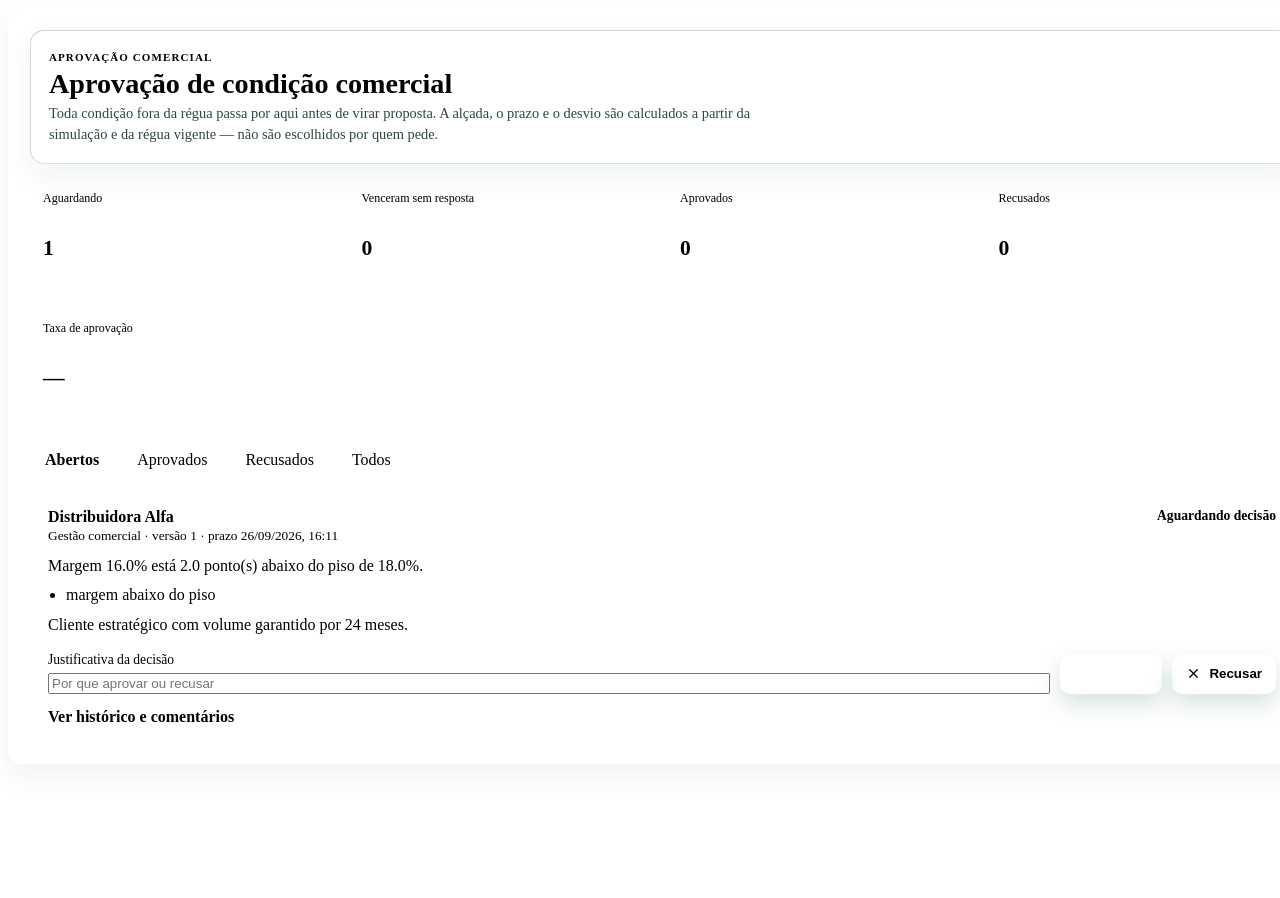
Test: fila de aprovação comercial › o histórico abre com os eventos em ordem
Step 1. Click the button "Ver histórico e comentários" → (141, 717), box [48,708,234,726]
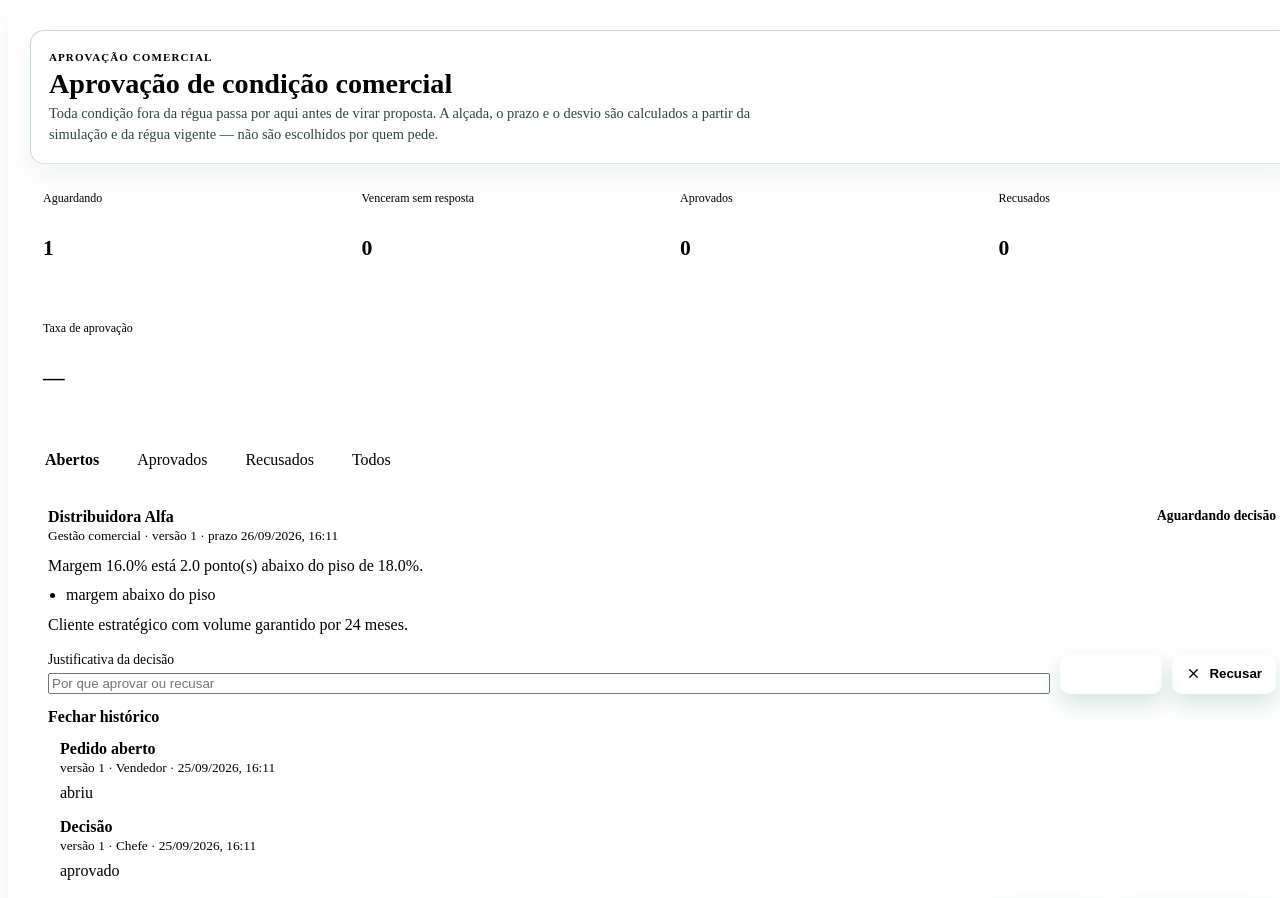
Check: the text "Pedido aberto" is shown, box [60,740,156,757]
Check: the text "Decisão" is shown, box [60,818,112,834]
